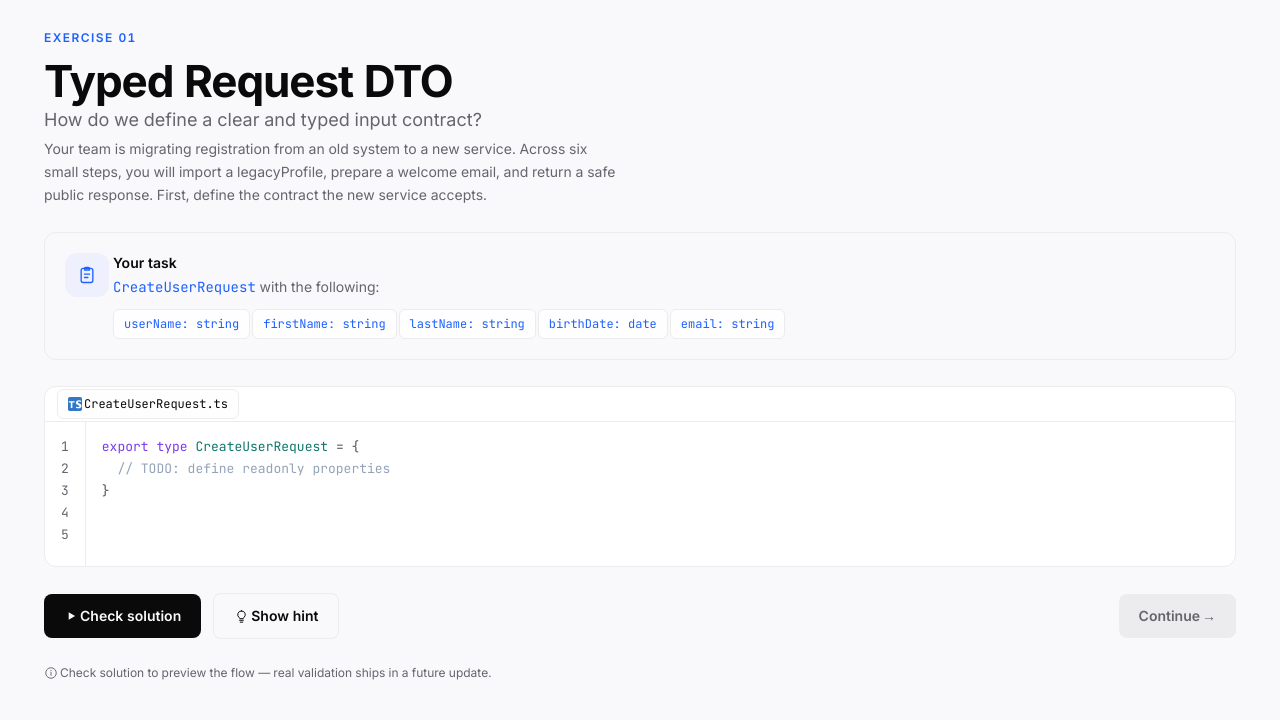
ExerciseCard › persists draft edits for the active task
Replace the text in the text box named "your solution" with "my own solution" at (660, 491), box x1=86 y1=422 x2=1235 y2=560
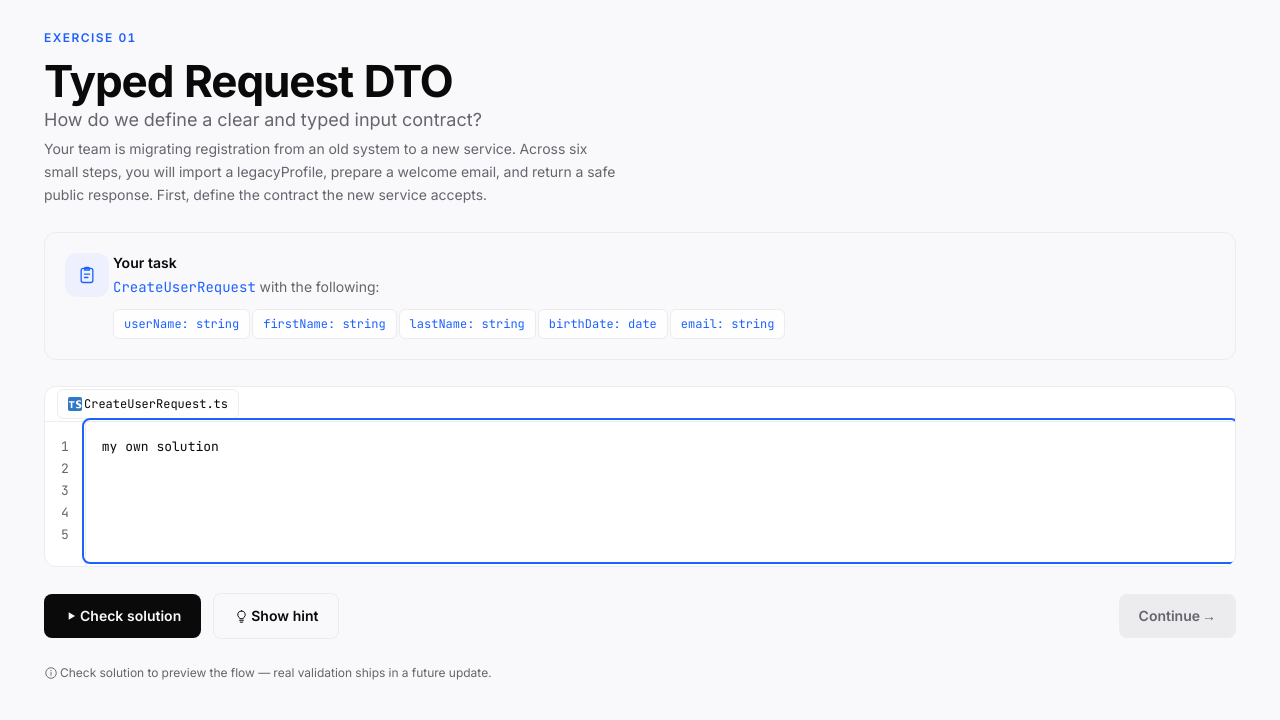
Expected: the element showing "my own solution" is shown, x1=102 y1=438 x2=219 y2=455
